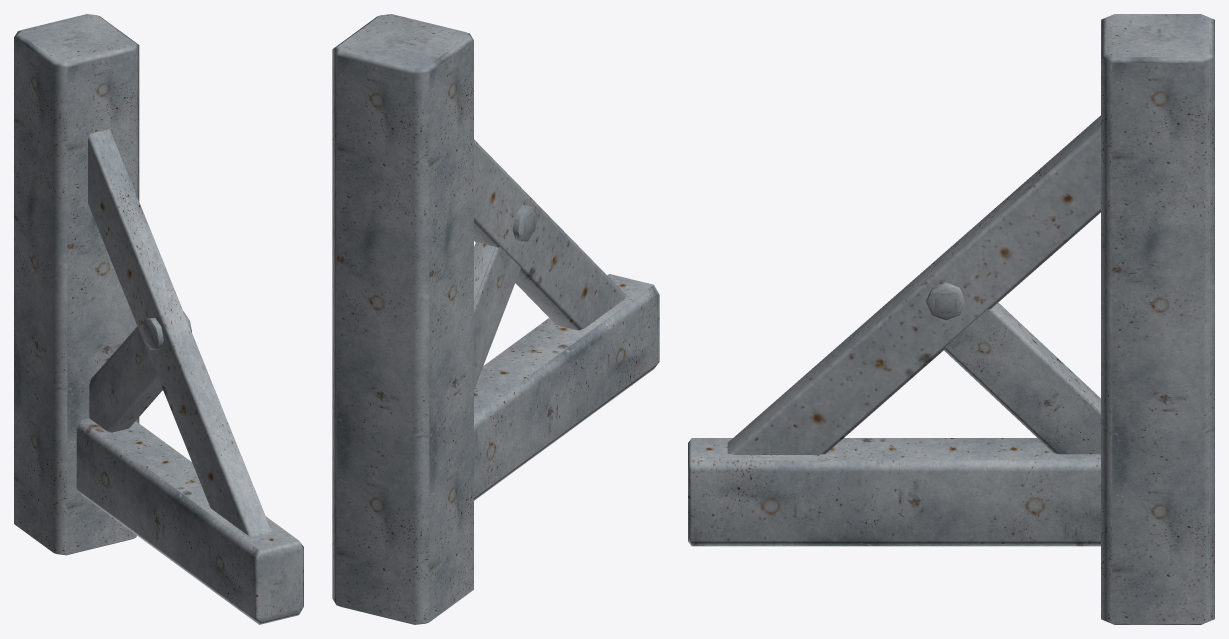
The model's file is Ob_WoodSupportConnector_RC.fbx.
3 renders of one model, left to right at view 1: azimuth 30°, elevation 25°; view 2: azimuth 150°, elevation 25°; view 3: azimuth 270°, elevation 25°, orthographic. The views are drawn at different scales.
Visible parts, largest first — view 1: Ob_WoodSupportConnector_RC; view 2: Ob_WoodSupportConnector_RC; view 3: Ob_WoodSupportConnector_RC.
Part boxes in pixels (bbox=[...]): Ob_WoodSupportConnector_RC: bbox=[14, 14, 303, 624]; Ob_WoodSupportConnector_RC: bbox=[332, 14, 659, 624]; Ob_WoodSupportConnector_RC: bbox=[688, 14, 1214, 624].
Bounding box in the file's own units: 99.77 × 548 × 461.
